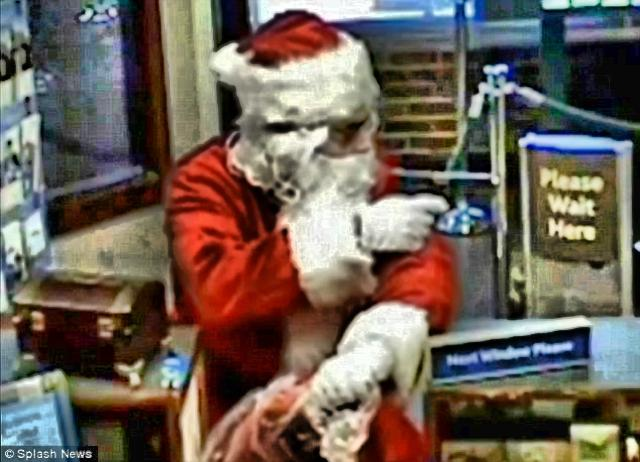pistol: (380, 162, 490, 246)
